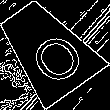O_NW: (13, 16, 82, 83)
